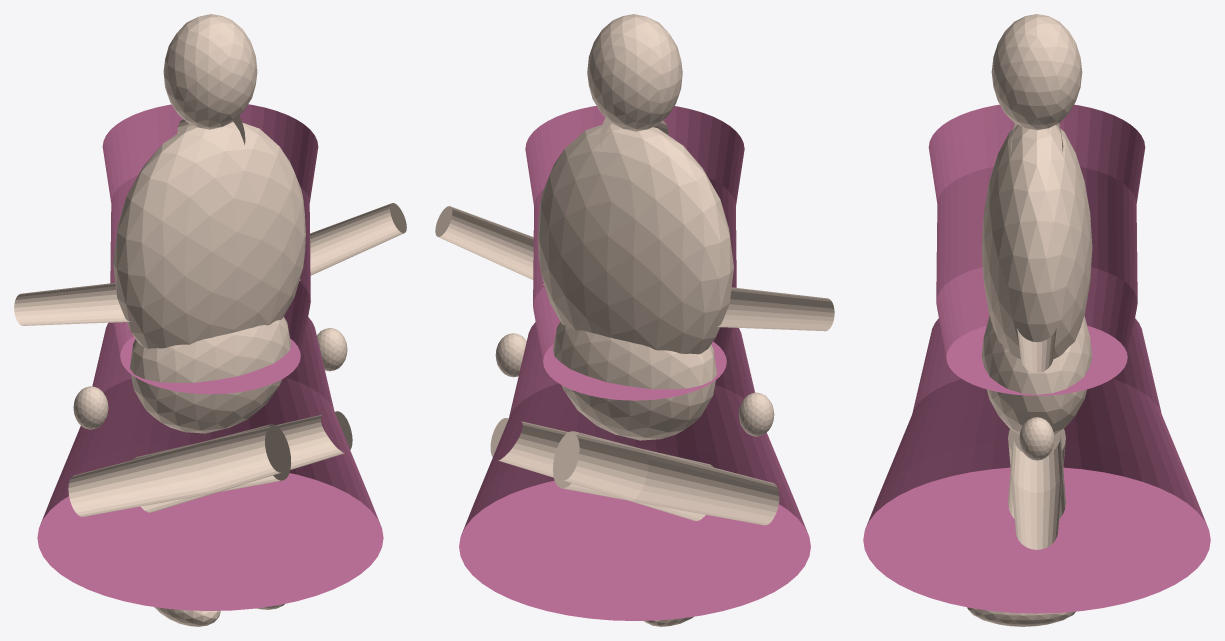
Rendered from masculino-vestido.glb.
The picture shows the model from 3 angles, left to right: view 1: azimuth 30°, elevation 25°; view 2: azimuth 150°, elevation 25°; view 3: azimuth 270°, elevation 25°; orthographic projection.
Parts seen in each view (by area): view 1: Prenda, Avatar0, Avatar1, Avatar3, Avatar4, Avatar8, Avatar6, Avatar10, Avatar7, Avatar11, Avatar5; view 2: Prenda, Avatar0, Avatar1, Avatar3, Avatar4, Avatar8, Avatar6, Avatar10, Avatar7, Avatar11; view 3: Prenda, Avatar0, Avatar3, Avatar1, Avatar8, Avatar4, Avatar11, Avatar9, Avatar10.
Boxes of the visible parts, bbox=[...] form: Prenda: bbox=[37, 104, 383, 610]; Avatar0: bbox=[113, 122, 305, 348]; Avatar1: bbox=[130, 317, 290, 433]; Avatar3: bbox=[163, 14, 257, 129]; Avatar4: bbox=[68, 424, 290, 516]; Avatar8: bbox=[133, 411, 352, 512]; Avatar6: bbox=[14, 283, 129, 325]; Avatar10: bbox=[299, 203, 406, 280]; Avatar7: bbox=[73, 386, 108, 429]; Avatar11: bbox=[317, 328, 347, 371]; Avatar5: bbox=[154, 607, 220, 626]; Prenda: bbox=[459, 106, 810, 620]; Avatar0: bbox=[538, 124, 733, 354]; Avatar1: bbox=[553, 322, 716, 440]; Avatar3: bbox=[587, 14, 682, 131]; Avatar4: bbox=[553, 431, 779, 525]; Avatar8: bbox=[490, 418, 713, 520]; Avatar6: bbox=[717, 287, 834, 331]; Avatar10: bbox=[435, 206, 544, 285]; Avatar7: bbox=[738, 392, 774, 436]; Avatar11: bbox=[495, 333, 526, 377]; Prenda: bbox=[863, 104, 1210, 613]; Avatar0: bbox=[981, 125, 1092, 359]; Avatar3: bbox=[991, 14, 1082, 130]; Avatar1: bbox=[981, 316, 1092, 434]; Avatar8: bbox=[1008, 429, 1065, 549]; Avatar4: bbox=[1008, 435, 1065, 518]; Avatar11: bbox=[1019, 417, 1054, 460]; Avatar9: bbox=[967, 607, 1075, 626]; Avatar10: bbox=[1017, 328, 1056, 372].
Size of the model in its own units: 1.75 by 2.58 by 1.38.
